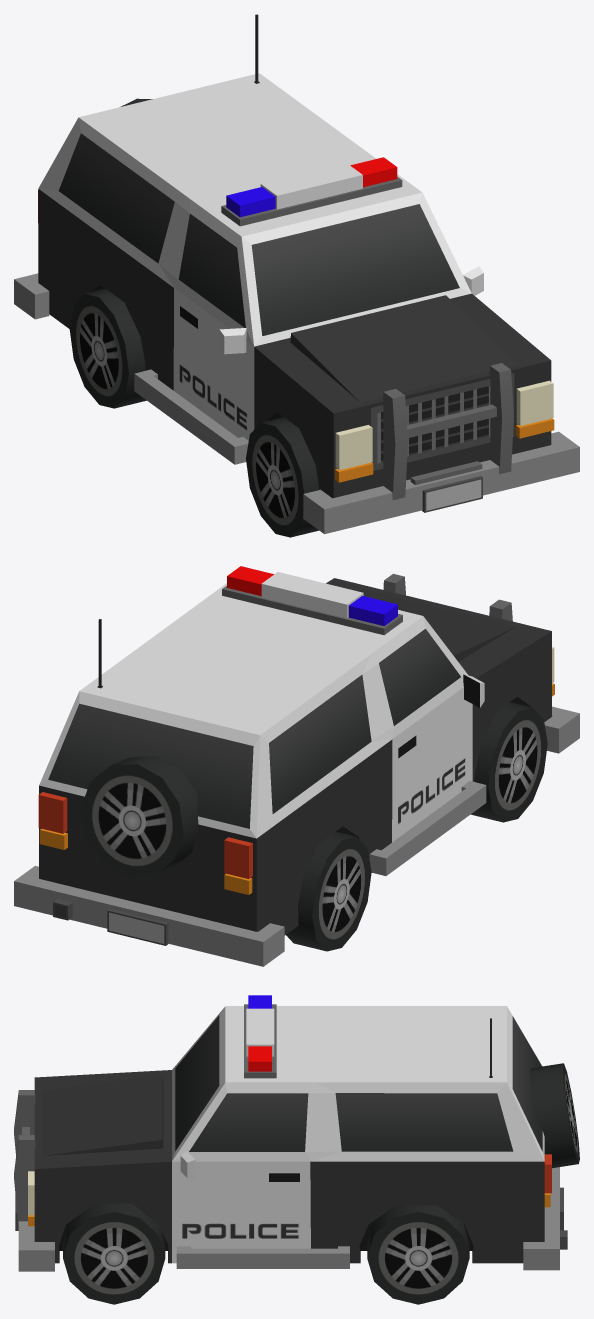
Rendered from PoliceCarB.fbx.
3 views of the same model, one above another, from view 1: azimuth 30°, elevation 25°; view 2: azimuth 150°, elevation 25°; view 3: azimuth 270°, elevation 25° (orthographic). The views are drawn at different scales.
Visible parts, largest first — view 1: PoliceCarB, TireBR, TireFR; view 2: PoliceCarB, TireBR, TireFR; view 3: PoliceCarB, TireFL, TireBL.
Boxes of the visible parts, x1,y1,x2,y2 form: PoliceCarB: (14, 14, 579, 534); TireBR: (69, 288, 146, 408); TireFR: (246, 417, 319, 537); PoliceCarB: (14, 566, 579, 966); TireBR: (286, 831, 371, 951); TireFR: (471, 702, 547, 822); PoliceCarB: (14, 995, 579, 1271); TireFL: (63, 1203, 165, 1304); TireBL: (367, 1205, 469, 1304).
Size of the model in its own units: 214 by 244 by 467.
